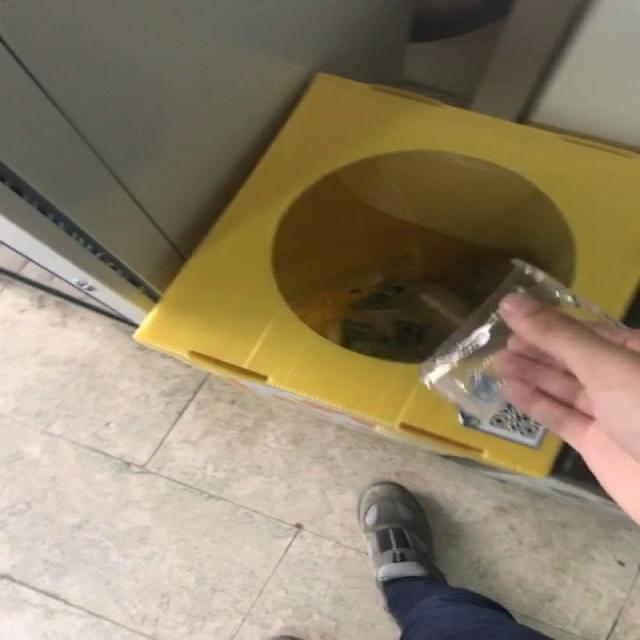plastic: (419, 259, 623, 448)
